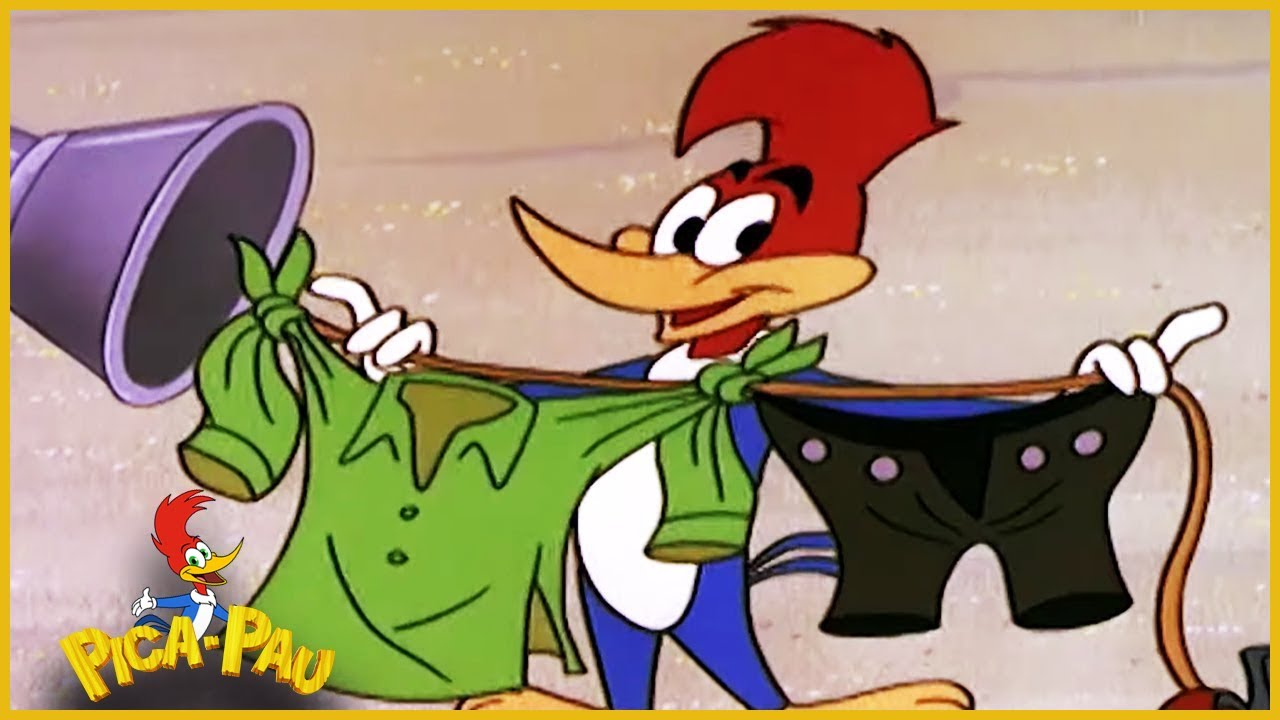picapau: (484, 11, 1013, 720)
